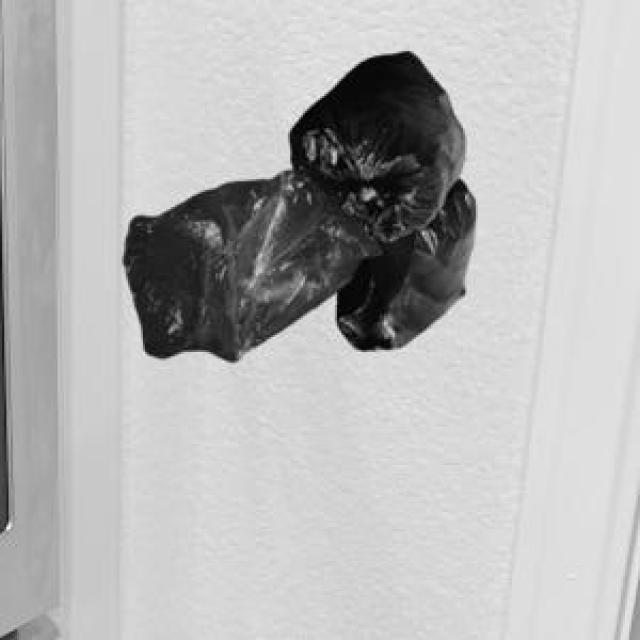miscellaneous trash: (286, 47, 472, 348)
